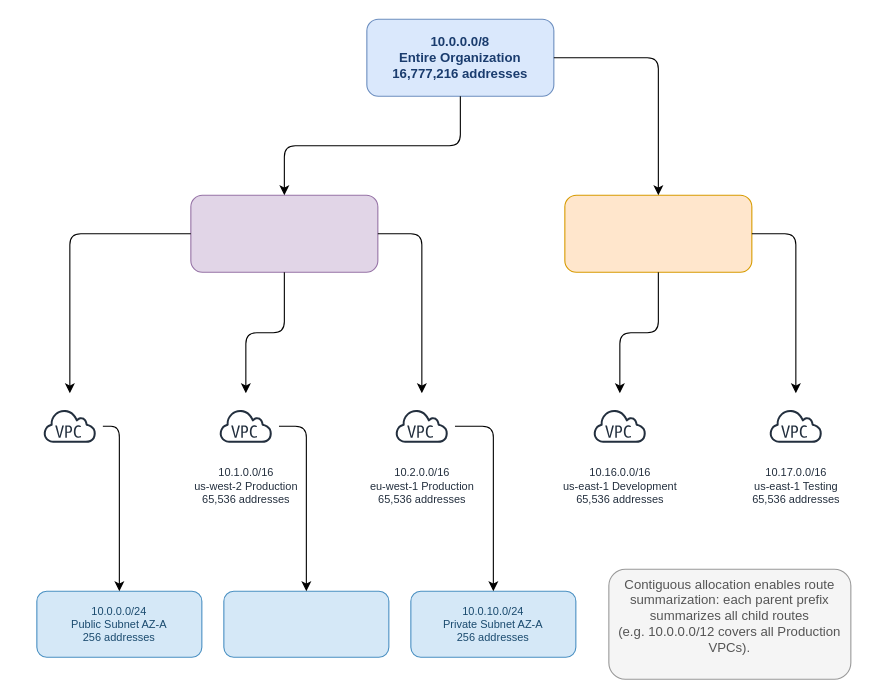
The diagram is 870 pixels wide and 699 high, and some of its shapes have lost their labels. Here are the shapes that lost their labels. From the top down, the centre of each, then its label:
point 284,233: 10.0.0.0/12 Production 1,048,576 addresses
point 658,233: 10.16.0.0/12 Non-Production 1,048,576 addresses
point 69,425: 10.0.0.0/16 us-east-1 Production 65,536 addresses
point 306,623: 10.0.1.0/24 Public Subnet AZ-B 256 addresses
